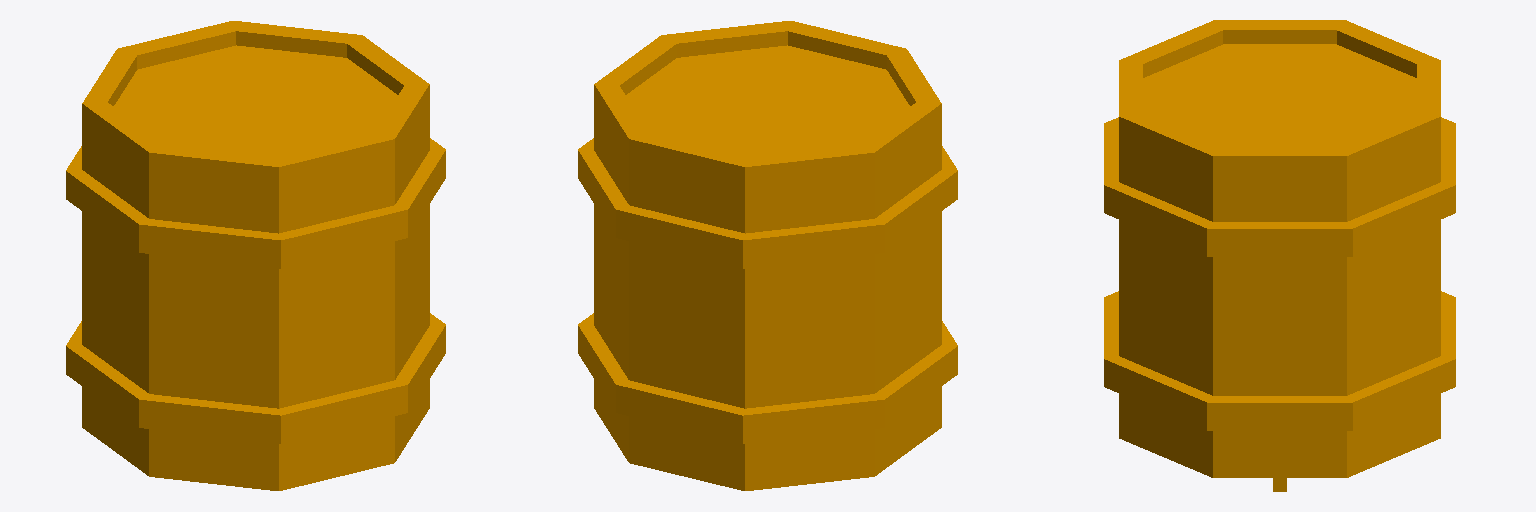
The robot description file, URDF, robot "boiler":
<?xml version="1.0"?>
<robot name="boiler">
  <link name="boiler">
    <inertial>
        <origin rpy="0 0 0" xyz="0 0 0"/>
        <mass value="30.0"/>
        <inertia ixx="2e-2" ixy="0" ixz="0" iyy="2e-2" iyz="0" izz="2e-2"/>
    </inertial>
    <visual>
      <geometry>
        <mesh filename="boiler_visual.obj"/>
      </geometry>
    </visual>
    <collision>
      <geometry>
        <mesh filename="boiler_visual.obj"/>
      </geometry>
      <surface>
           <bounce restitution_coefficient = "0.1"/>
      </surface>
    </collision>
  </link>
</robot>

--- Render facts (derived) ---
3 views of the same robot in one strip: view 1: azimuth 30°, elevation 25°; view 2: azimuth 150°, elevation 25°; view 3: azimuth 270°, elevation 25° (orthographic).
Model boiler with 1 links and 0 joints (none), rooted at boiler, posed every joint at zero.
Visible links, largest first — view 1: boiler; view 2: boiler; view 3: boiler.
Boxes of the visible links, left/top/right/bottom form: boiler: left=66, top=21, right=445, bottom=490; boiler: left=578, top=21, right=957, bottom=490; boiler: left=1104, top=20, right=1455, bottom=491.
Size in the robot's own frame: 0.6789 by 0.6789 by 0.76 metres.
1 mesh visuals loaded from 1 distinct referenced files (1 OBJ).
